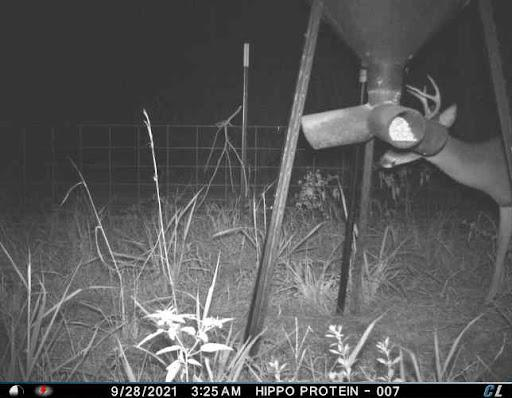Deer: (371, 77, 512, 316)
